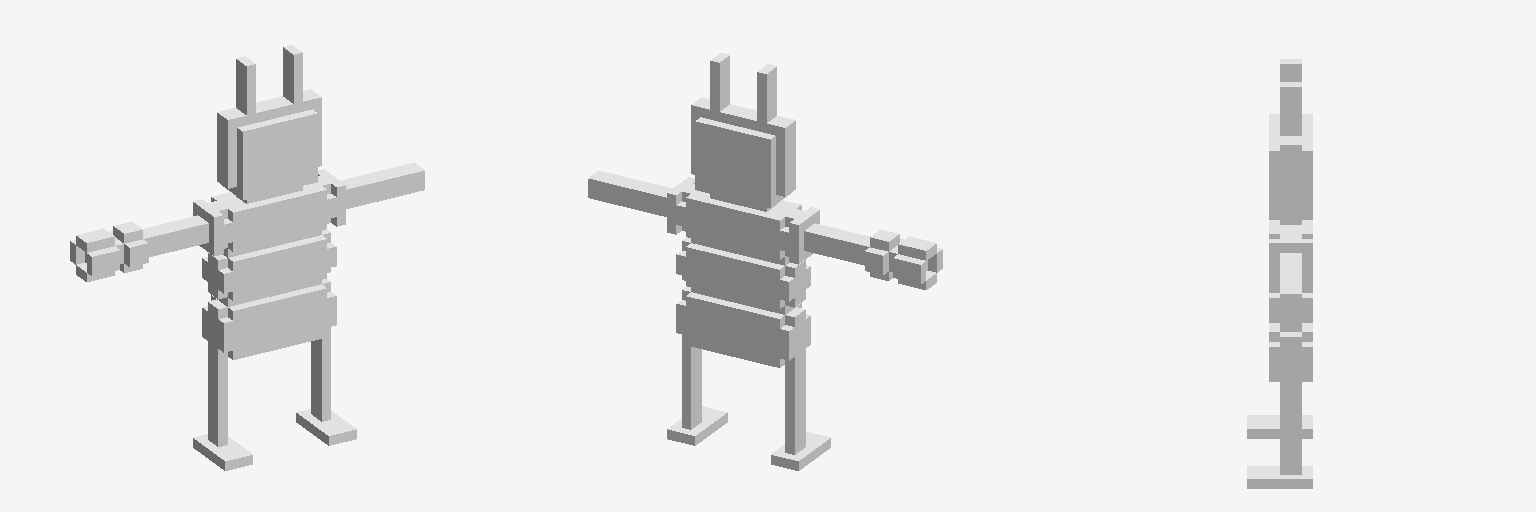
Rendered from t-pose1.obj.
3 renders of one model, left to right at view 1: azimuth 30°, elevation 25°; view 2: azimuth 150°, elevation 25°; view 3: azimuth 270°, elevation 25°, orthographic.
Parts seen in each view (by area): view 1: t-pose1; view 2: t-pose1; view 3: t-pose1.
Boxes of the visible parts, <box> form: t-pose1: <box>70,45,424,470</box>; t-pose1: <box>588,53,942,470</box>; t-pose1: <box>1247,59,1312,488</box>.
Bounding box in the file's own units: 36 × 39 × 6.